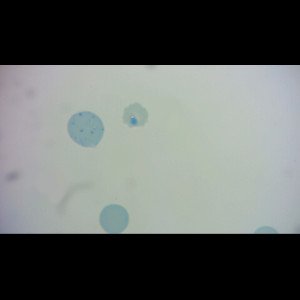erythrocyte: (98, 203, 130, 234), (121, 101, 151, 129)
punctate reticulocyte: (66, 110, 105, 148)
